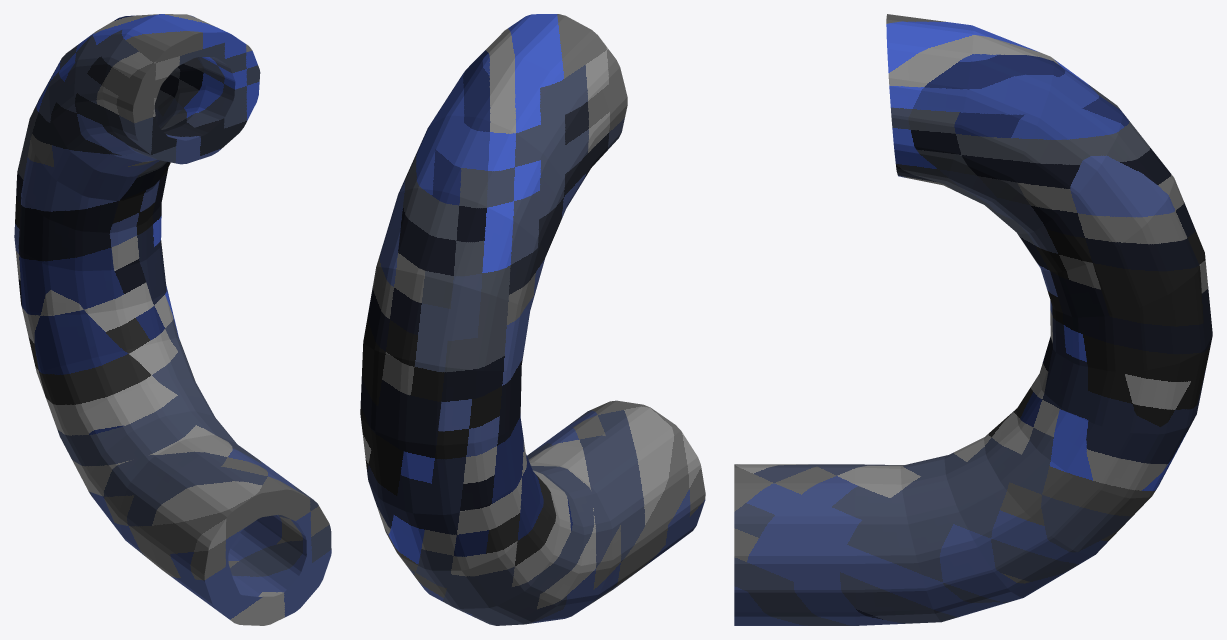
Rendered from SnolfTube1.fbx.
The picture shows the model from 3 angles, left to right: view 1: azimuth 30°, elevation 25°; view 2: azimuth 150°, elevation 25°; view 3: azimuth 270°, elevation 25°; orthographic projection. The views are drawn at different scales.
Visible parts, largest first — view 1: Cube; view 2: Cube; view 3: Cube.
Boxes of the visible parts, <box> form: Cube: <box>14,14,331,625</box>; Cube: <box>360,14,705,625</box>; Cube: <box>734,14,1212,625</box>.
Bounding box in the file's own units: 1019 × 4148 × 3014.
